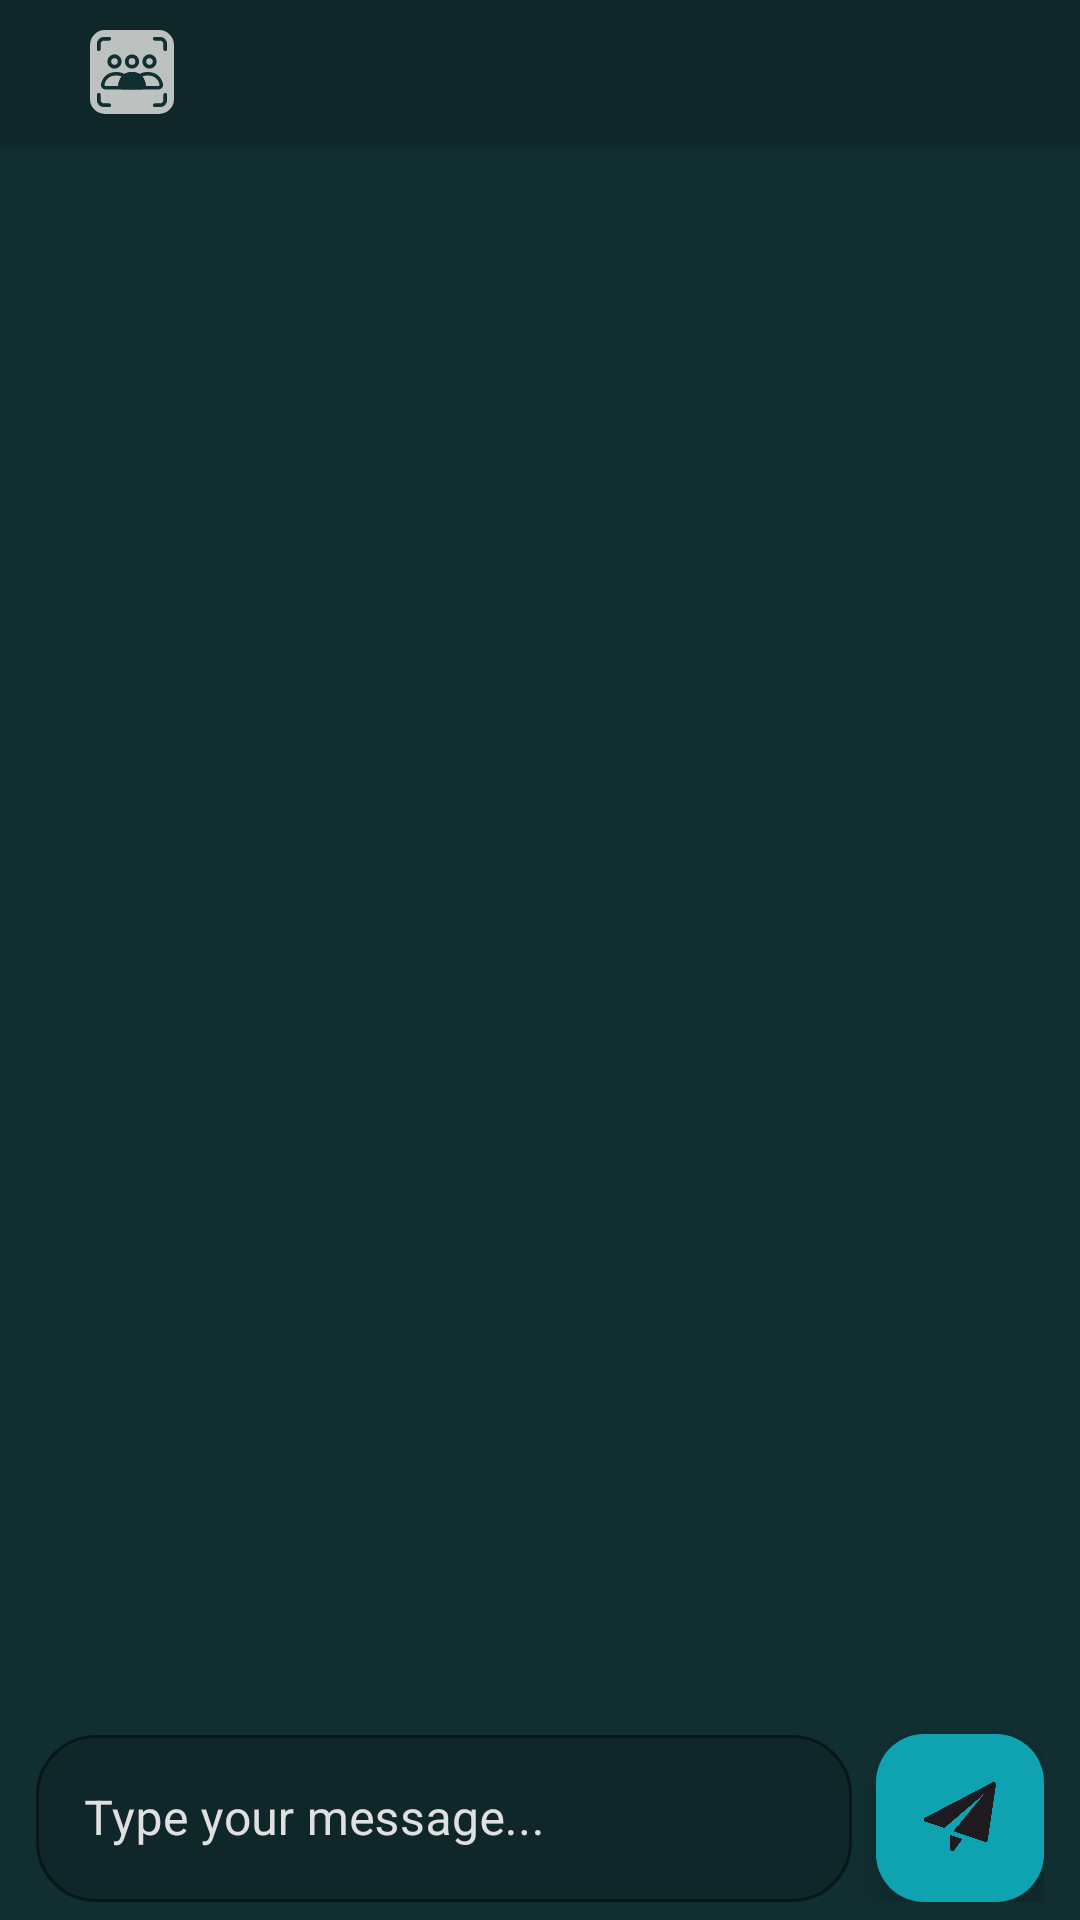

Named icons in this screenshot (1080×1920) and their bounding boxes, (x1, y1, x2, y2):
defaultgroupimage: (90, 30, 174, 114)
plane: (876, 1734, 1044, 1902)
